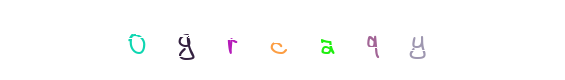0: (96, 0, 176, 80)
A: (257, 0, 337, 80)
C: (242, 0, 322, 80)
G: (146, 0, 226, 80)
Q: (287, 0, 367, 80)
R: (237, 0, 317, 80)
Y: (302, 0, 382, 80)
